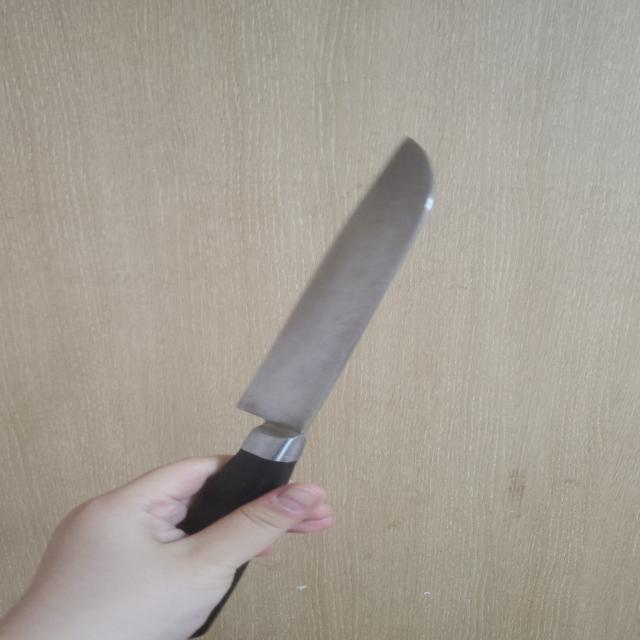knife: (121, 136, 433, 640)
